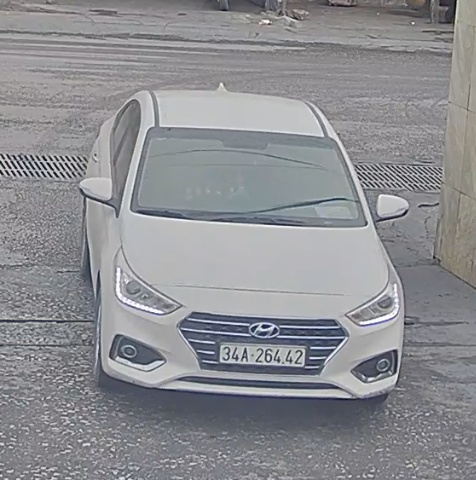vehicle plate: (215, 337, 309, 370)
